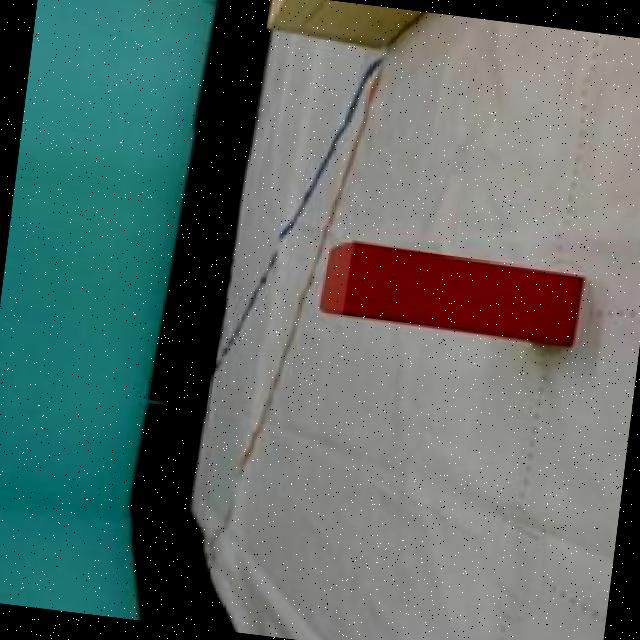redbox: (319, 242, 588, 344)
